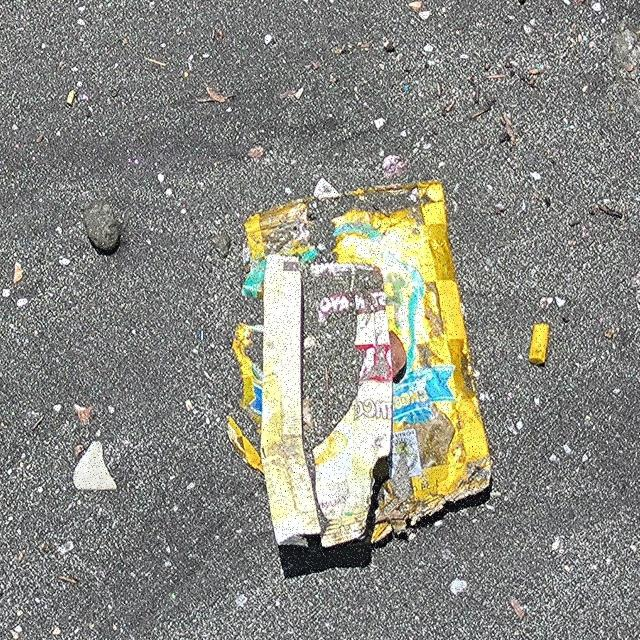plastic_waste: (226, 175, 497, 553)
